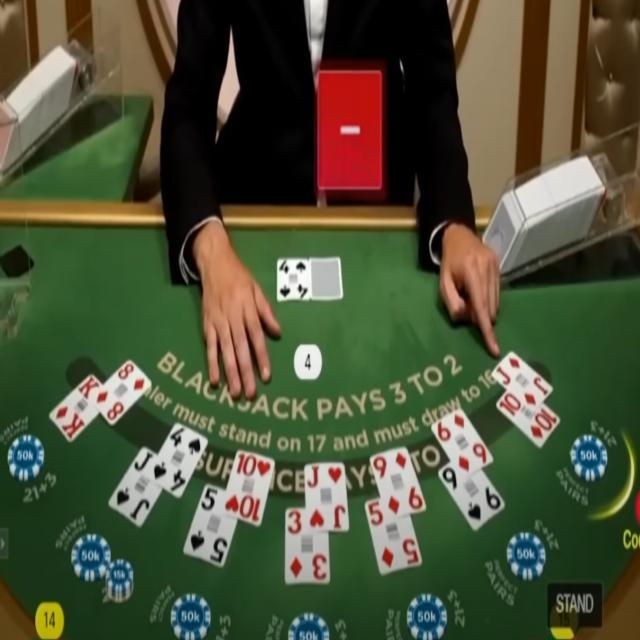Card-10: (223, 449, 275, 526), (496, 390, 561, 448)
Card-3: (285, 507, 329, 584)
Card-4: (146, 420, 208, 499), (277, 258, 310, 300)
Card-5: (183, 482, 237, 569), (364, 497, 422, 576)
Card-6: (430, 408, 493, 480)
Card-8: (89, 358, 152, 426)
Card-9: (438, 463, 506, 532), (370, 446, 426, 521)
Card-J: (109, 444, 162, 528), (491, 349, 554, 412), (305, 462, 349, 534)
Card-K: (49, 372, 102, 442)
